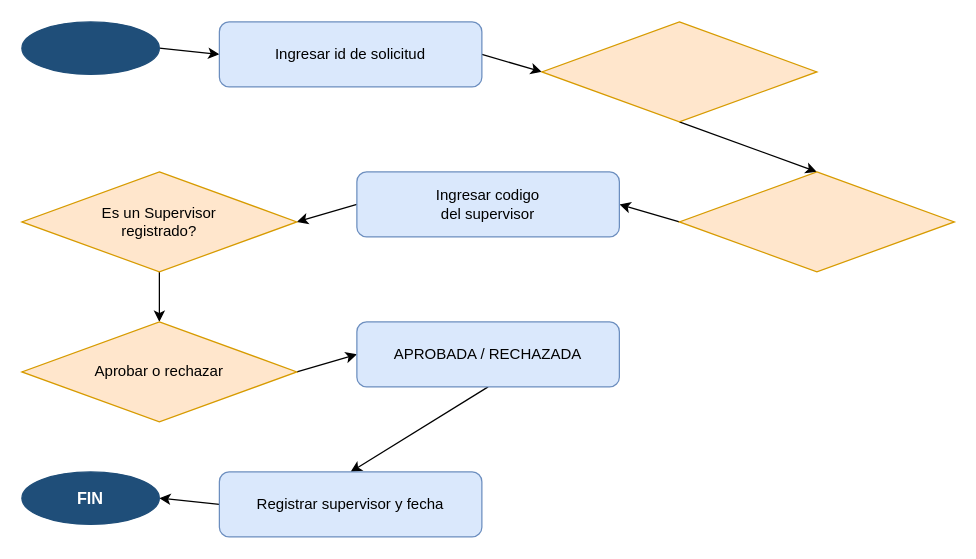
The diagram is 976 pixels wide and 559 high, and some of its shapes have lost their labels. The centre of each missing label's shape, as x and y in pixels:
Estado = PENDIENTE?: point (816, 221)
Existe la solicitud?: point (679, 71)
INICIO: point (90, 47)
